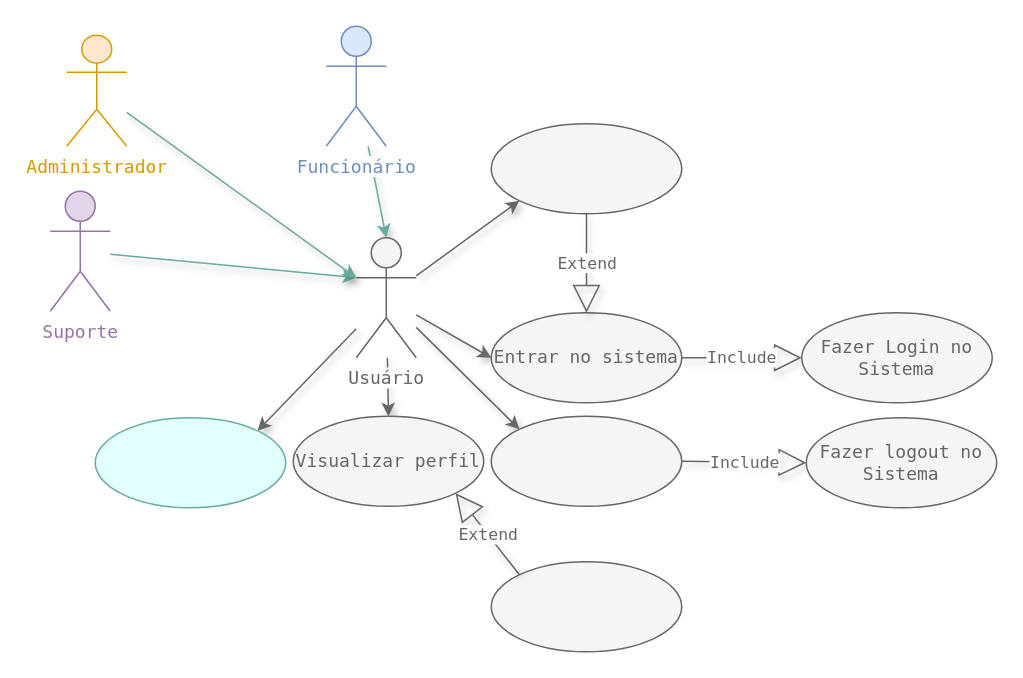
Some shapes in this 1023 by 678 pixel diagram are drawn without their labels. The centre of each missing label's shape, as x and y in pixels:
Editar perfil: point 586,606
Redefinir senha de acesso: point 586,168
Sair no sistema: point 586,460
Visualizar como o sistema funciona: point 190,462
